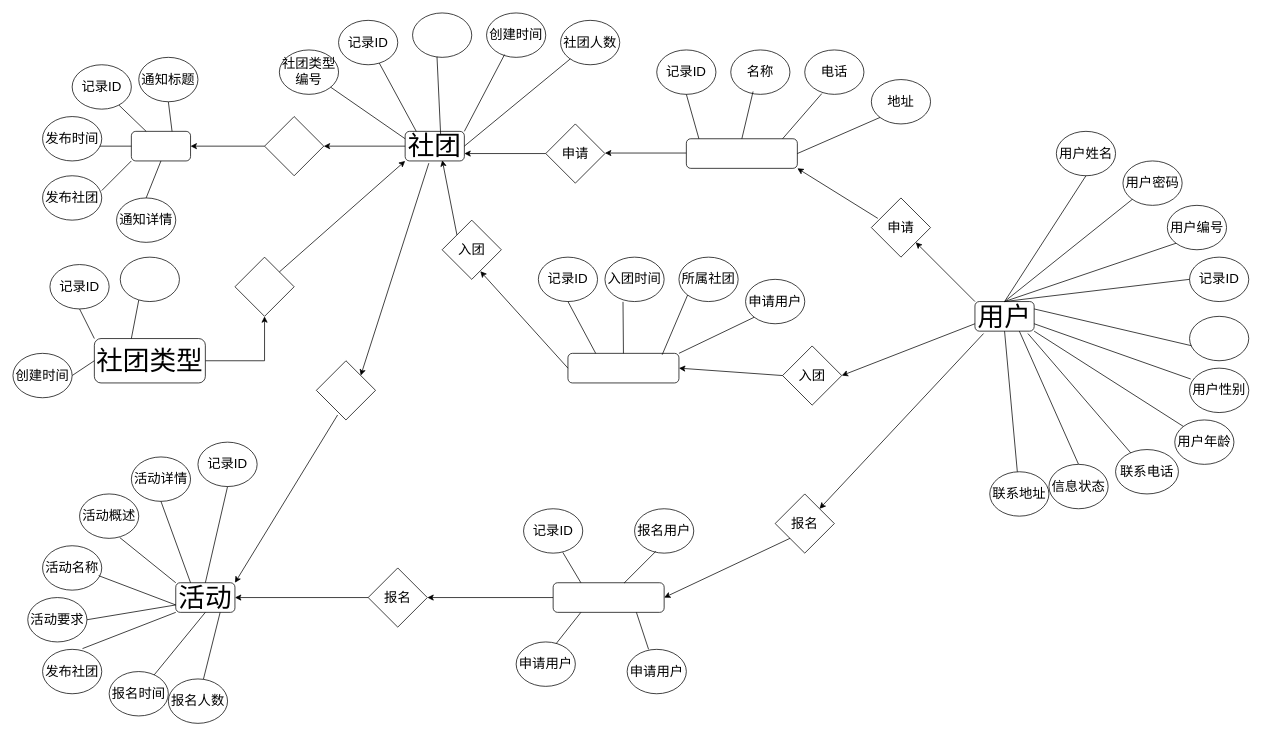
Some shapes in this 1262 by 736 pixel diagram are drawn without their labels. Here are the shapes that lost their labels. From the top down, the centre of each, then its label:
At (x=442, y=34): "社团名称".
At (x=161, y=146): "通知".
At (x=294, y=146): "发布".
At (x=741, y=153): "入团申请".
At (x=149, y=279): "类型名称".
At (x=264, y=286): "设置".
At (x=1219, y=338): "用户身份".
At (x=623, y=368): "社团成员".
At (x=346, y=390): "组织".
At (x=608, y=597): "报名记录".
